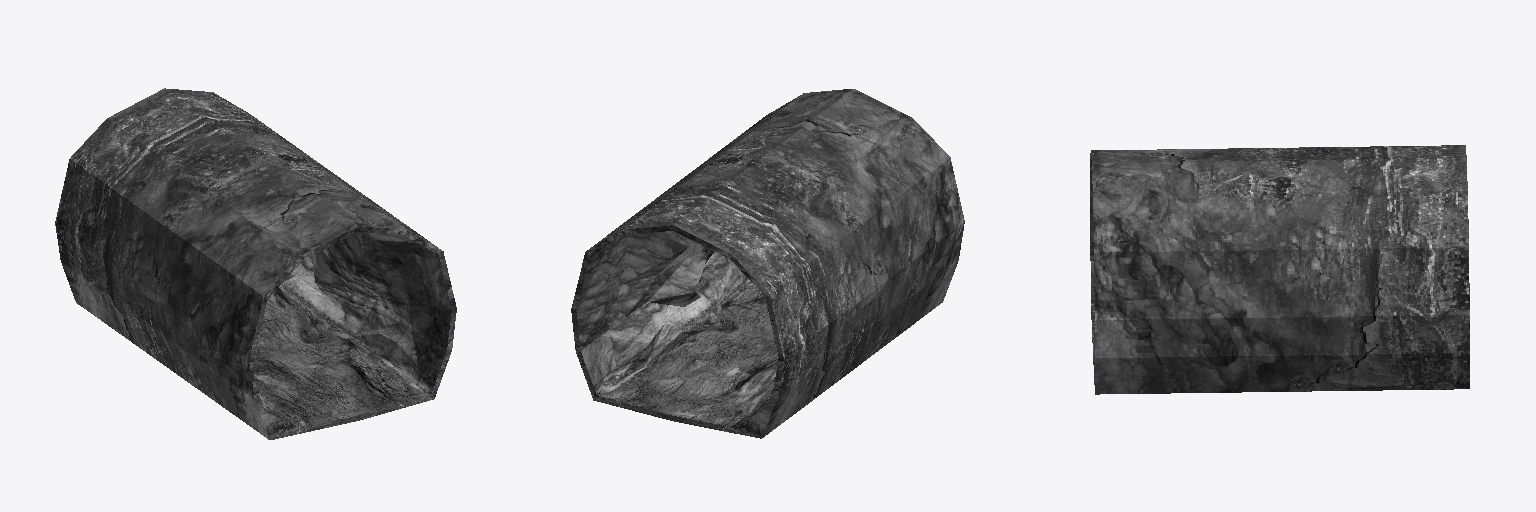
The picture shows the model from 3 angles: view 1: azimuth 30°, elevation 25°; view 2: azimuth 150°, elevation 25°; view 3: azimuth 270°, elevation 25°; orthographic projection.
Visible parts, largest first — view 1: cavecorridor3; view 2: cavecorridor3; view 3: cavecorridor3.
Part boxes in pixels (bbox=[...]): cavecorridor3: bbox=[55, 88, 456, 439]; cavecorridor3: bbox=[571, 89, 964, 438]; cavecorridor3: bbox=[1090, 145, 1469, 394].
Size of the model in its own units: 105 by 91.67 by 160.
Materials: 1 (1 with a texture image).